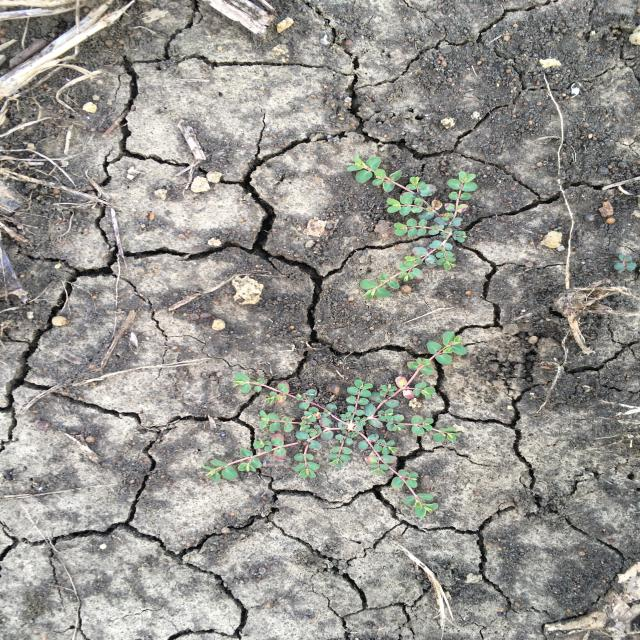SpottedSpurge: (201, 330, 469, 520), (346, 153, 480, 305)
